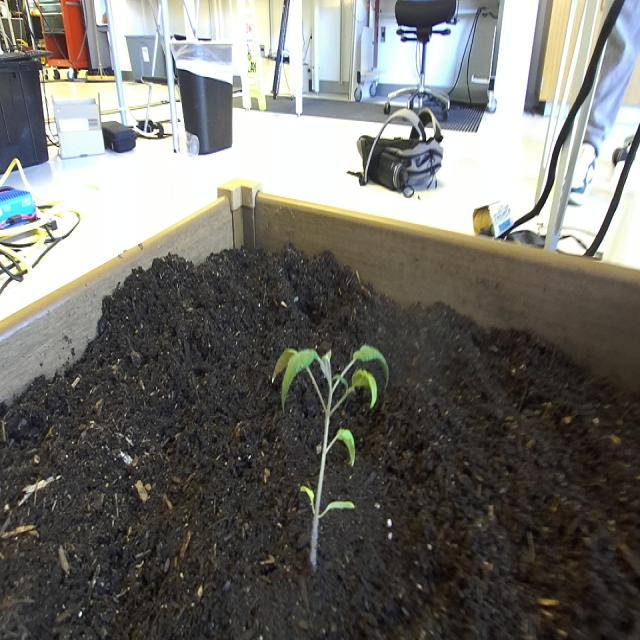Healthy: (259, 321, 400, 591)
